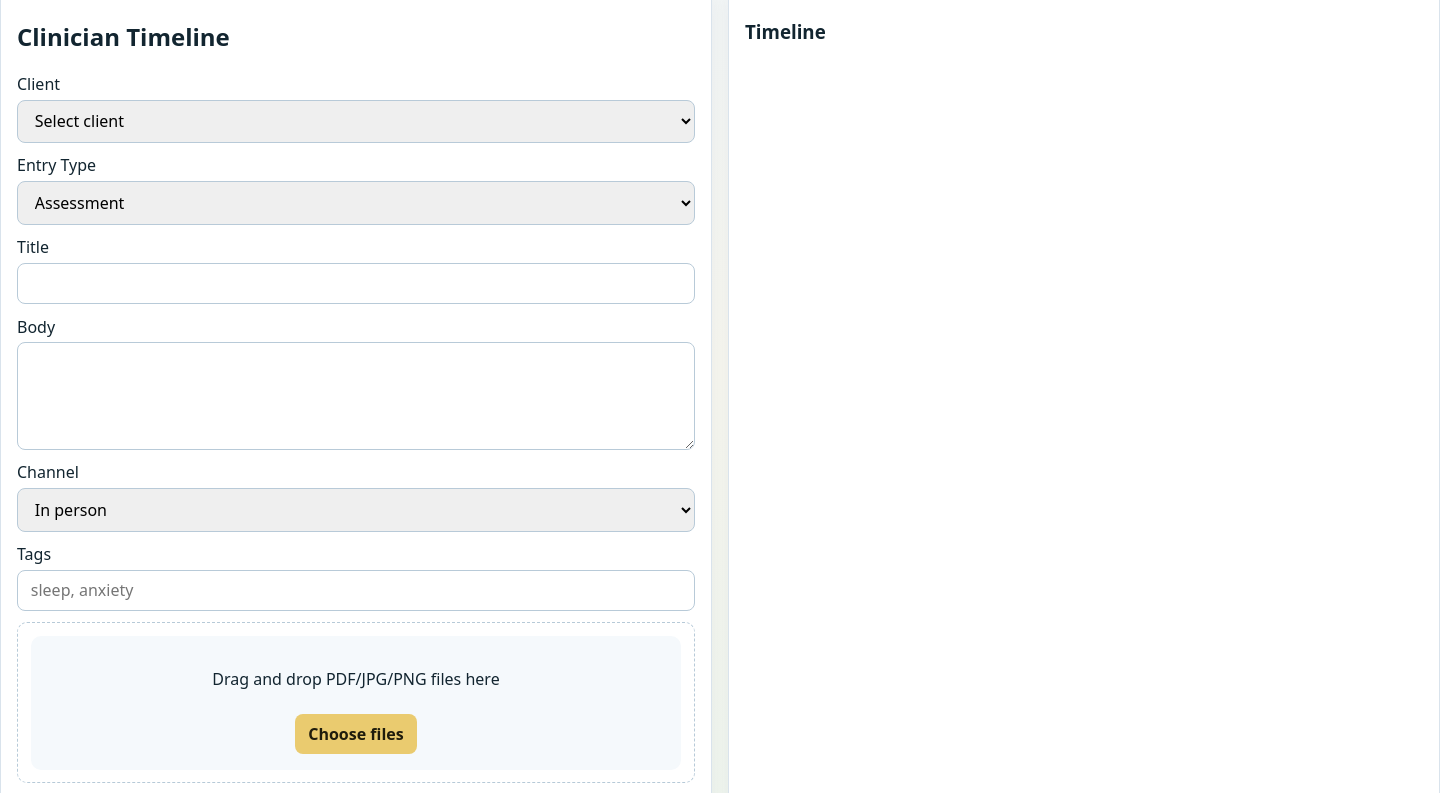
Test: ClinicianModule — form validation › shows body error when body is empty
The width and height of the screenshot is (1440, 793).
Select "Alice Smith" in the dropdown labelled "Client" at (356, 121), box [17, 100, 695, 143]
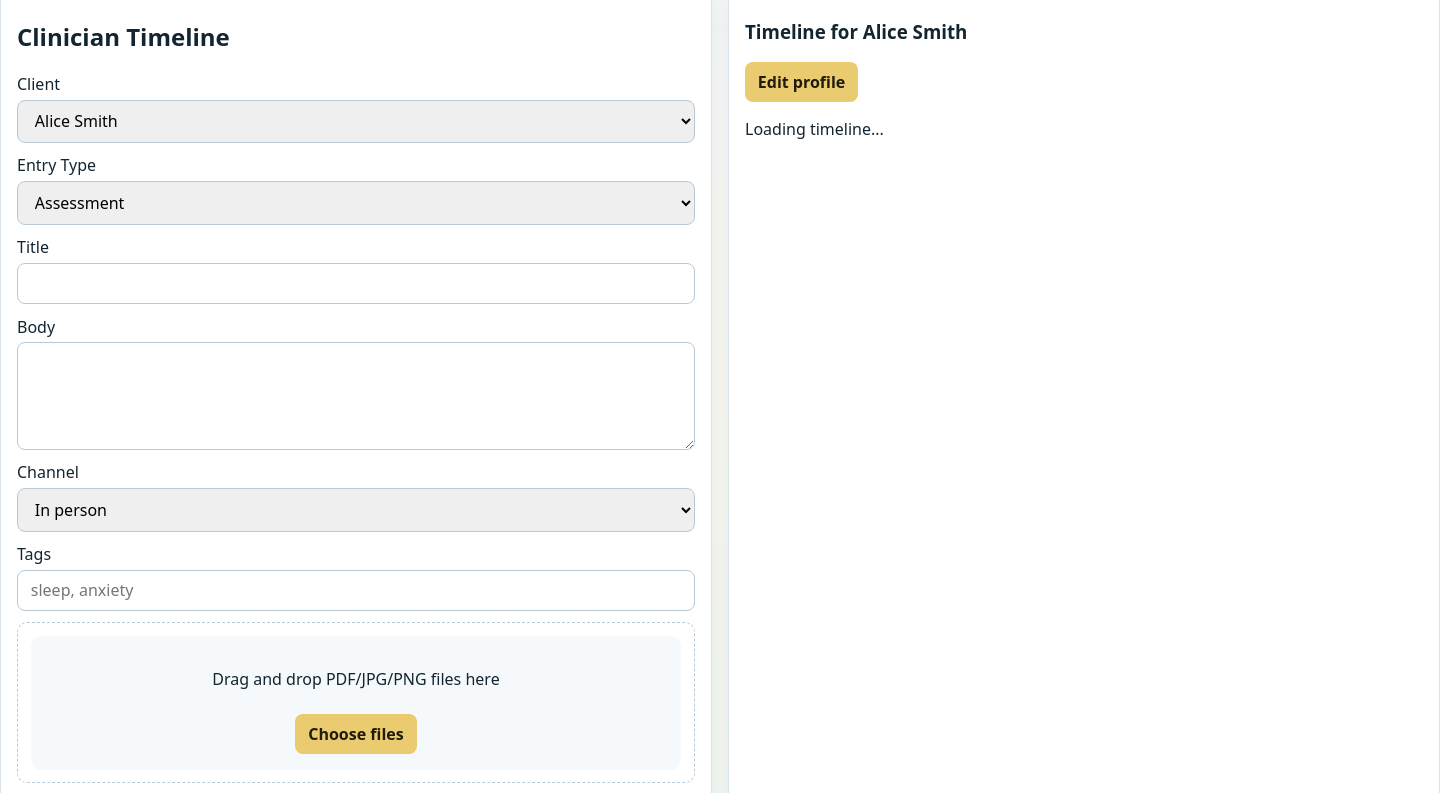
Type "My Title" into the field labelled "Title".
click(356, 284); type("My Title")  # box [17, 263, 695, 304]
(page scrolled)
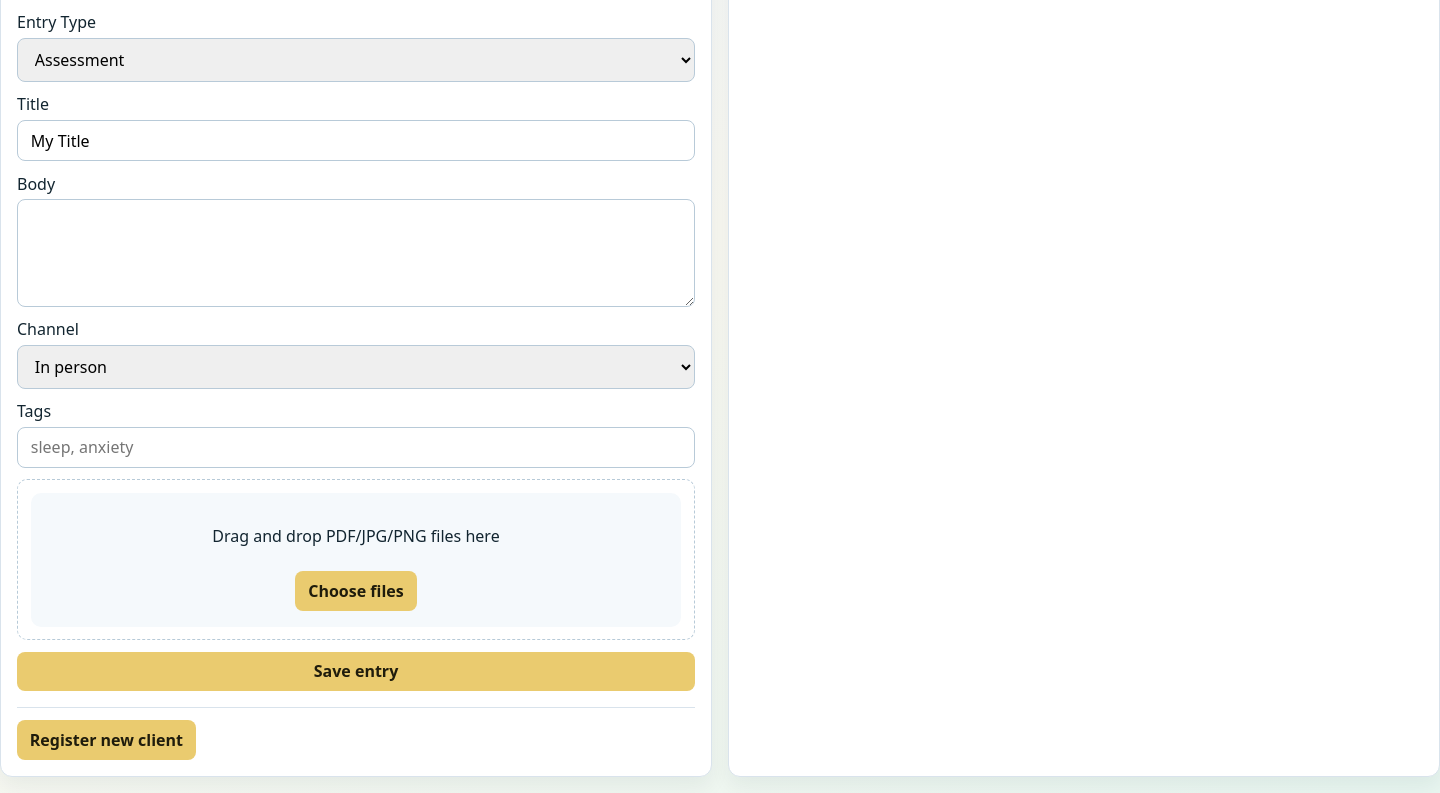
Click the button "Save entry".
click(356, 672)  # box [17, 652, 695, 691]
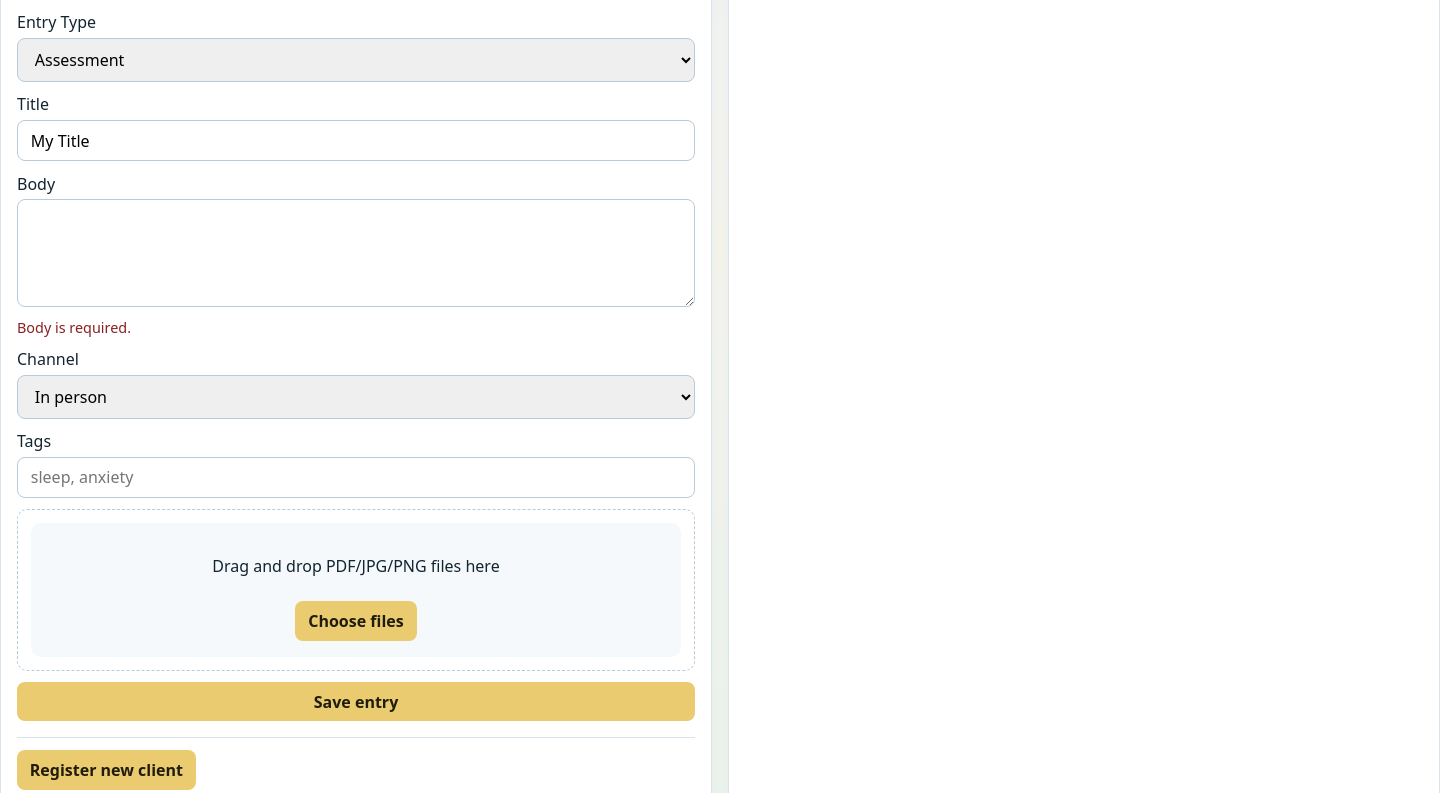
Expected: the text "Body is required." is shown, [17, 318, 131, 337]
